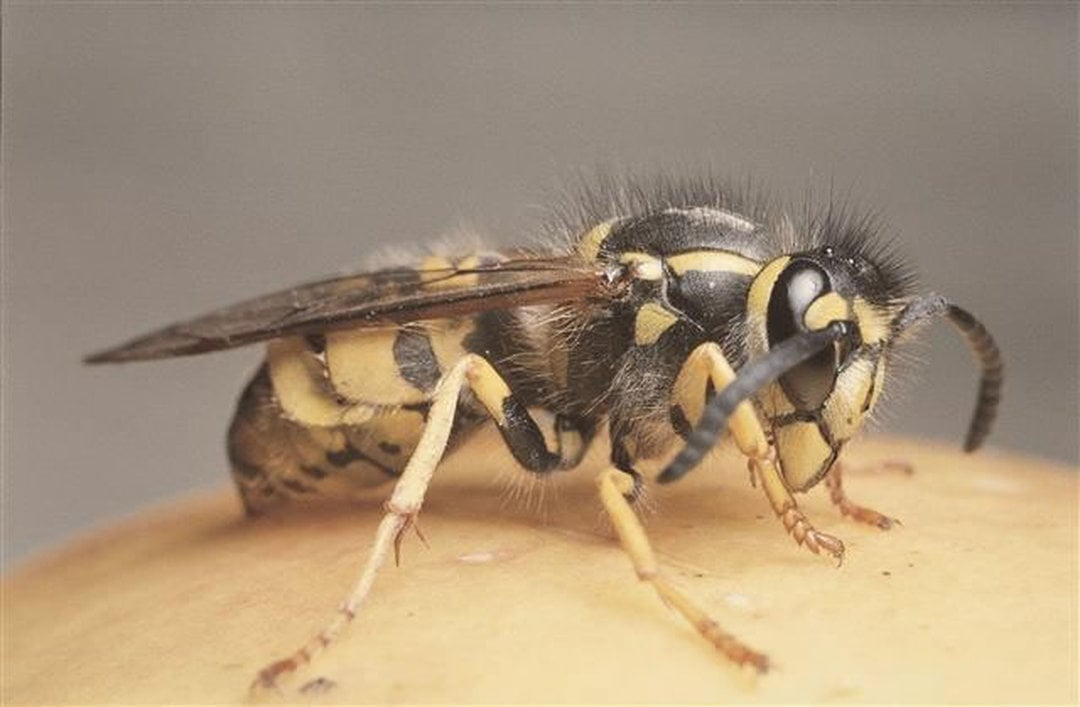chax: (59, 164, 1046, 705)
